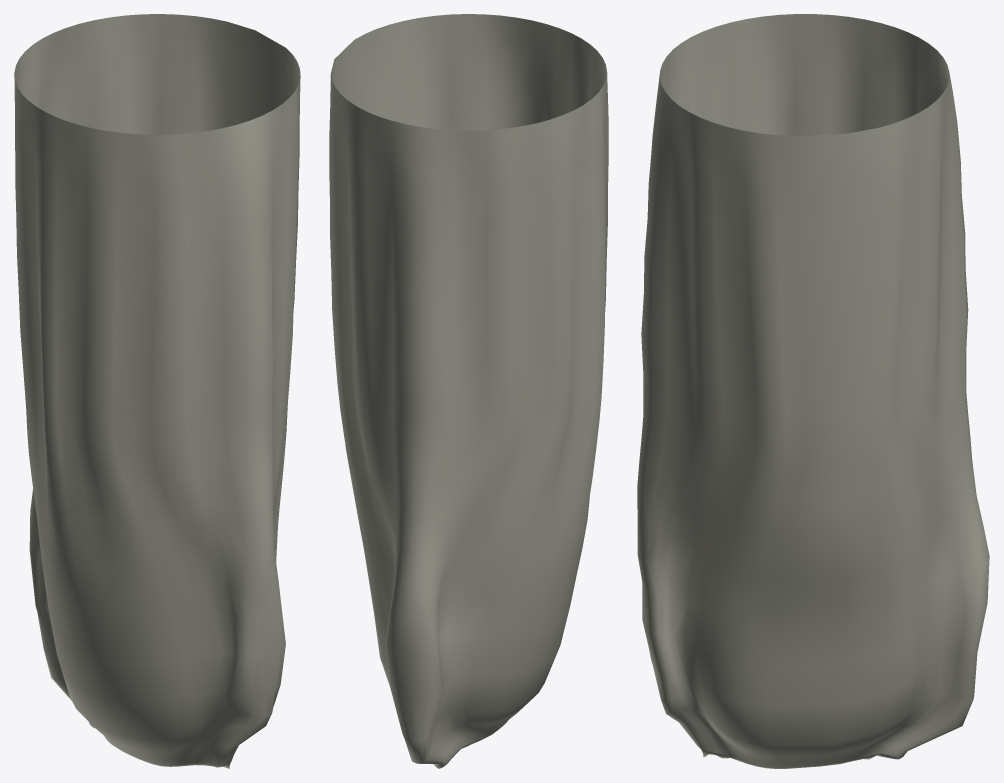
File: bolsa.obj
3 views of the same model, side by side, from view 1: azimuth 30°, elevation 25°; view 2: azimuth 150°, elevation 25°; view 3: azimuth 270°, elevation 25° (orthographic). The views are drawn at different scales.
Visible parts, largest first — view 1: SM_sack; view 2: SM_sack; view 3: SM_sack.
Part boxes in pixels (x1=…): SM_sack: x1=14, y1=14, x2=300, y2=768; SM_sack: x1=329, y1=14, x2=608, y2=768; SM_sack: x1=637, y1=14, x2=989, y2=768.
Bounding box in the file's own units: 0.2425 × 0.6291 × 0.2902.
1 material, 1 textured.
